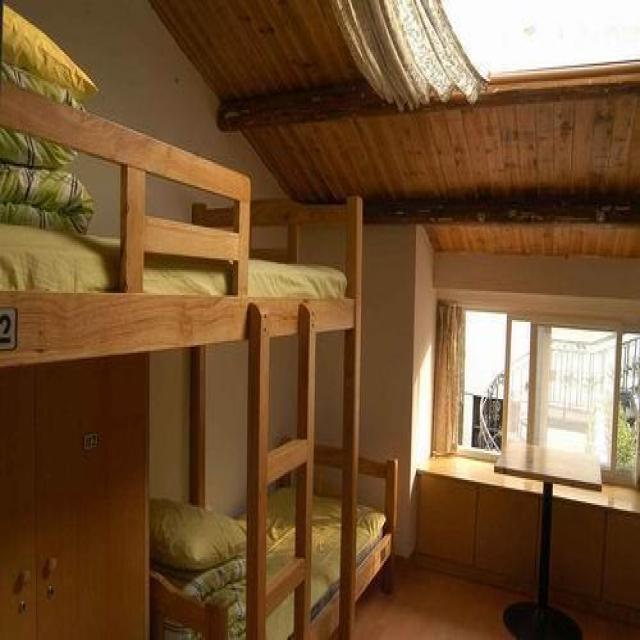cupboard: (0, 347, 150, 638), (413, 453, 639, 625)
curtains: (329, 0, 490, 112), (430, 299, 465, 455)
pillows: (148, 496, 246, 570)
plants: (0, 0, 98, 233)
table: (492, 440, 602, 638)
window: (430, 295, 639, 488)
